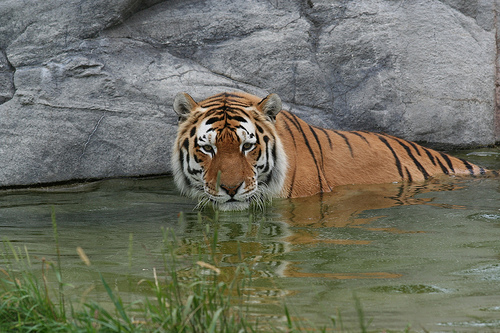Tigre: (157, 66, 479, 224)
